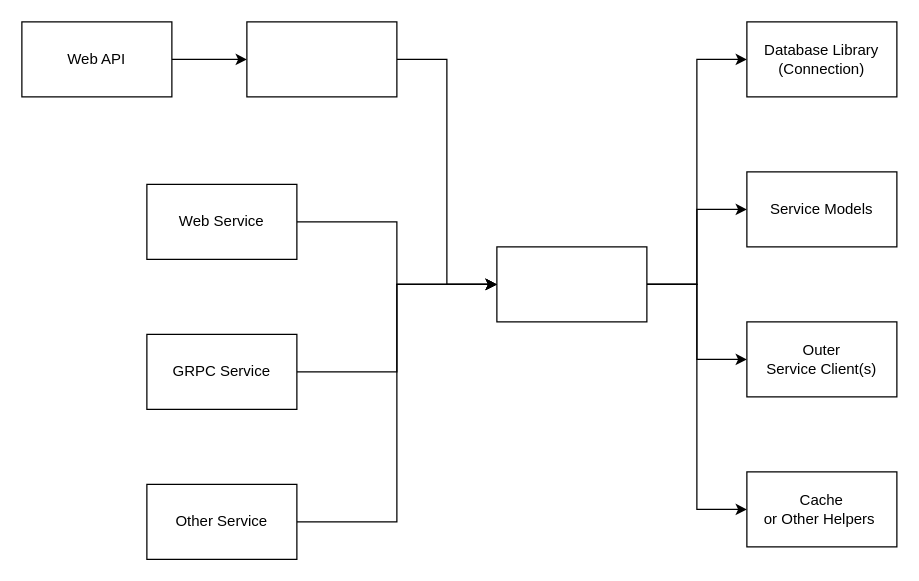
Some shapes in this 919 by 581 pixel diagram are drawn without their labels. Here are the shapes that lost their labels. From the top down, the centre of each, then its label:
the point at 321,59: Service Extensions Library For Web API (DI, Config, Logger...etc.)
the point at 571,284: Service Library (Core Logic)
